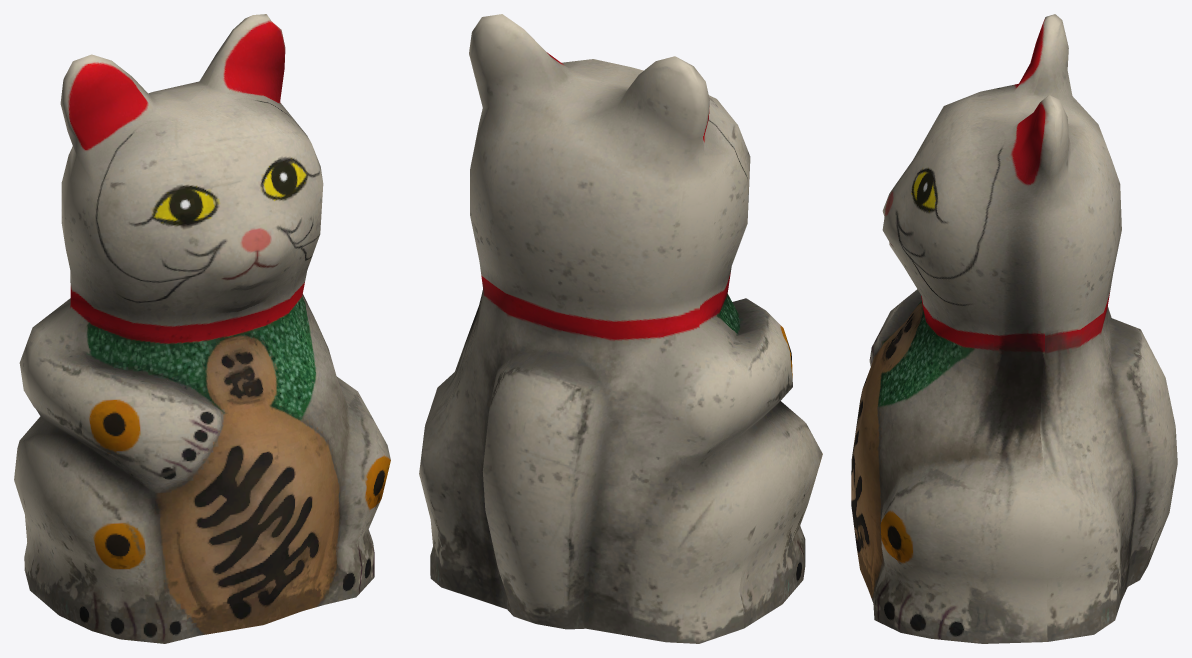
The model's file is statue_cat_body.dae.
3 views of the same model, side by side, from view 1: azimuth 30°, elevation 25°; view 2: azimuth 150°, elevation 25°; view 3: azimuth 270°, elevation 25° (orthographic). The views are drawn at different scales.
Visible parts, largest first — view 1: cat; view 2: cat; view 3: cat.
Part boxes in pixels (box(x1,y1,x2,y2)): cat: box(14, 14, 390, 643); cat: box(419, 14, 822, 643); cat: box(851, 14, 1177, 643).
Bounding box in the file's own units: 15.61 × 24.12 × 13.79.
